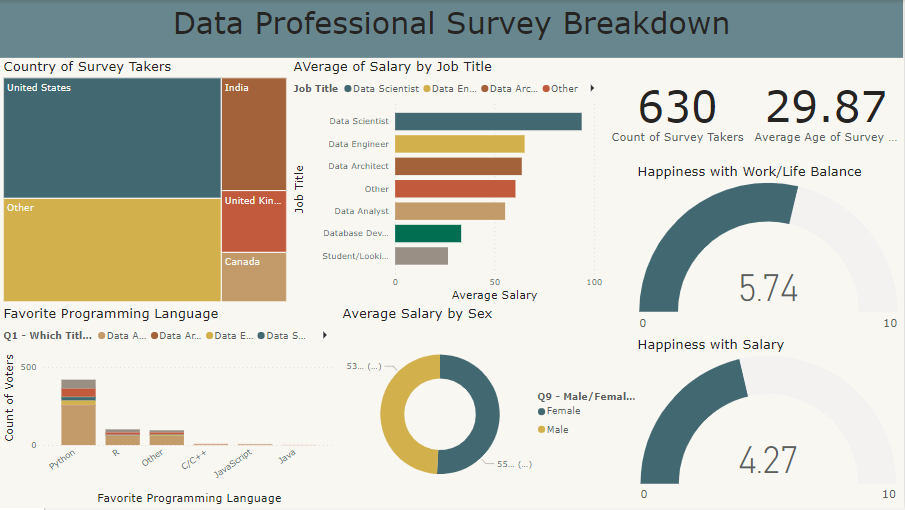

The dashboard page shown, as its layout file describes it:
{"tool":"powerbi","page":{"name":"Page 1","canvas":[1280,720],"ordinal":0},"visuals":[{"type":"textbox","box":[0,0,1280,82.2],"z":0},{"type":"card","fields":{"Values":["Count(Data Professional Survey.Unique ID)"]},"box":[858.9,82.2,203,149.3],"z":1},{"type":"card","fields":{"Values":["Avg(Data Professional Survey.Q10 - Current Age)"]},"box":[1061.9,82.2,218.1,149.3],"z":2},{"type":"columnChart","title":"Favorite Programming Language","fields":{"Category":["Data Professional Survey.Q5 - Favorite Programming Language.1"],"Y":["CountNonNull(Data Professional Survey.Unique ID)"],"Series":["Data Professional Survey.Q1 - Which Title Best Fits your Current Role?.1"]},"box":[0,432.8,479.8,286.9],"z":4},{"type":"barChart","title":"AVerage of Salary by Job Title","fields":{"Category":["Data Professional Survey.Q1 - Which Title Best Fits your Current Role?.1"],"Y":["Avg(Data Professional Survey.Average Salary)"],"Series":["Data Professional Survey.Q1 - Which Title Best Fits your Current Role?.1"]},"box":[411,82.2,447.9,350.6],"z":5},{"type":"treemap","title":"Country of Survey Takers","fields":{"Group":["Data Professional Survey.Q11 - Which Country do you live in?.1"],"Values":["CountNonNull(Data Professional Survey.Q11 - Which Country do you live in?.1)"]},"box":[0,82.2,411,350.6],"z":6},{"type":"gauge","title":"Happiness with Work/Life Balance","fields":{"Y":["Avg(Data Professional Survey.Q6 - How Happy are you in your Current Position with the following? (Work/Life Balance))"],"MinValue":["Min(Data Professional Survey.Q6 - How Happy are you in your Current Position with the following? (Work/Life Balance))"],"MaxValue":["Max(Data Professional Survey.Q6 - How Happy are you in your Current Position with the following? (Work/Life Balance))"]},"box":[899.2,231.5,380.8,244.9],"z":7},{"type":"gauge","title":"Happiness with Salary","fields":{"Y":["Avg(Data Professional Survey.Q6 - How Happy are you in your Current Position with the following? (Salary))"],"MinValue":["Min(Data Professional Survey.Q6 - How Happy are you in your Current Position with the following? (Salary))"],"MaxValue":["Max(Data Professional Survey.Q6 - How Happy are you in your Current Position with the following? (Salary))"]},"box":[899.2,476.4,380.8,243.3],"z":8},{"type":"donutChart","title":"Average Salary by Sex","fields":{"Category":["Data Professional Survey.Q9 - Male/Female?"],"Y":["Avg(Data Professional Survey.Average Salary)"]},"box":[479.8,432.8,419.4,286.9],"z":9}]}

Visuals, with their boxes in screenshot pixels (x1, y1, x2, y2), scaled from the page's 1280x720 canvas onto the 905x510 screenshot:
textbox: rect(0, 0, 904, 58)
card - Count(Data Professional Survey.Unique ID): rect(607, 58, 751, 164)
card - Avg(Data Professional Survey.Q10 - Current Age): rect(751, 58, 904, 164)
"Favorite Programming Language" columnChart: rect(0, 307, 339, 509)
"AVerage of Salary by Job Title" barChart: rect(291, 58, 607, 307)
"Country of Survey Takers" treemap: rect(0, 58, 291, 307)
"Happiness with Work/Life Balance" gauge: rect(636, 164, 904, 337)
"Happiness with Salary" gauge: rect(636, 337, 904, 509)
"Average Salary by Sex" donutChart: rect(339, 307, 636, 509)
